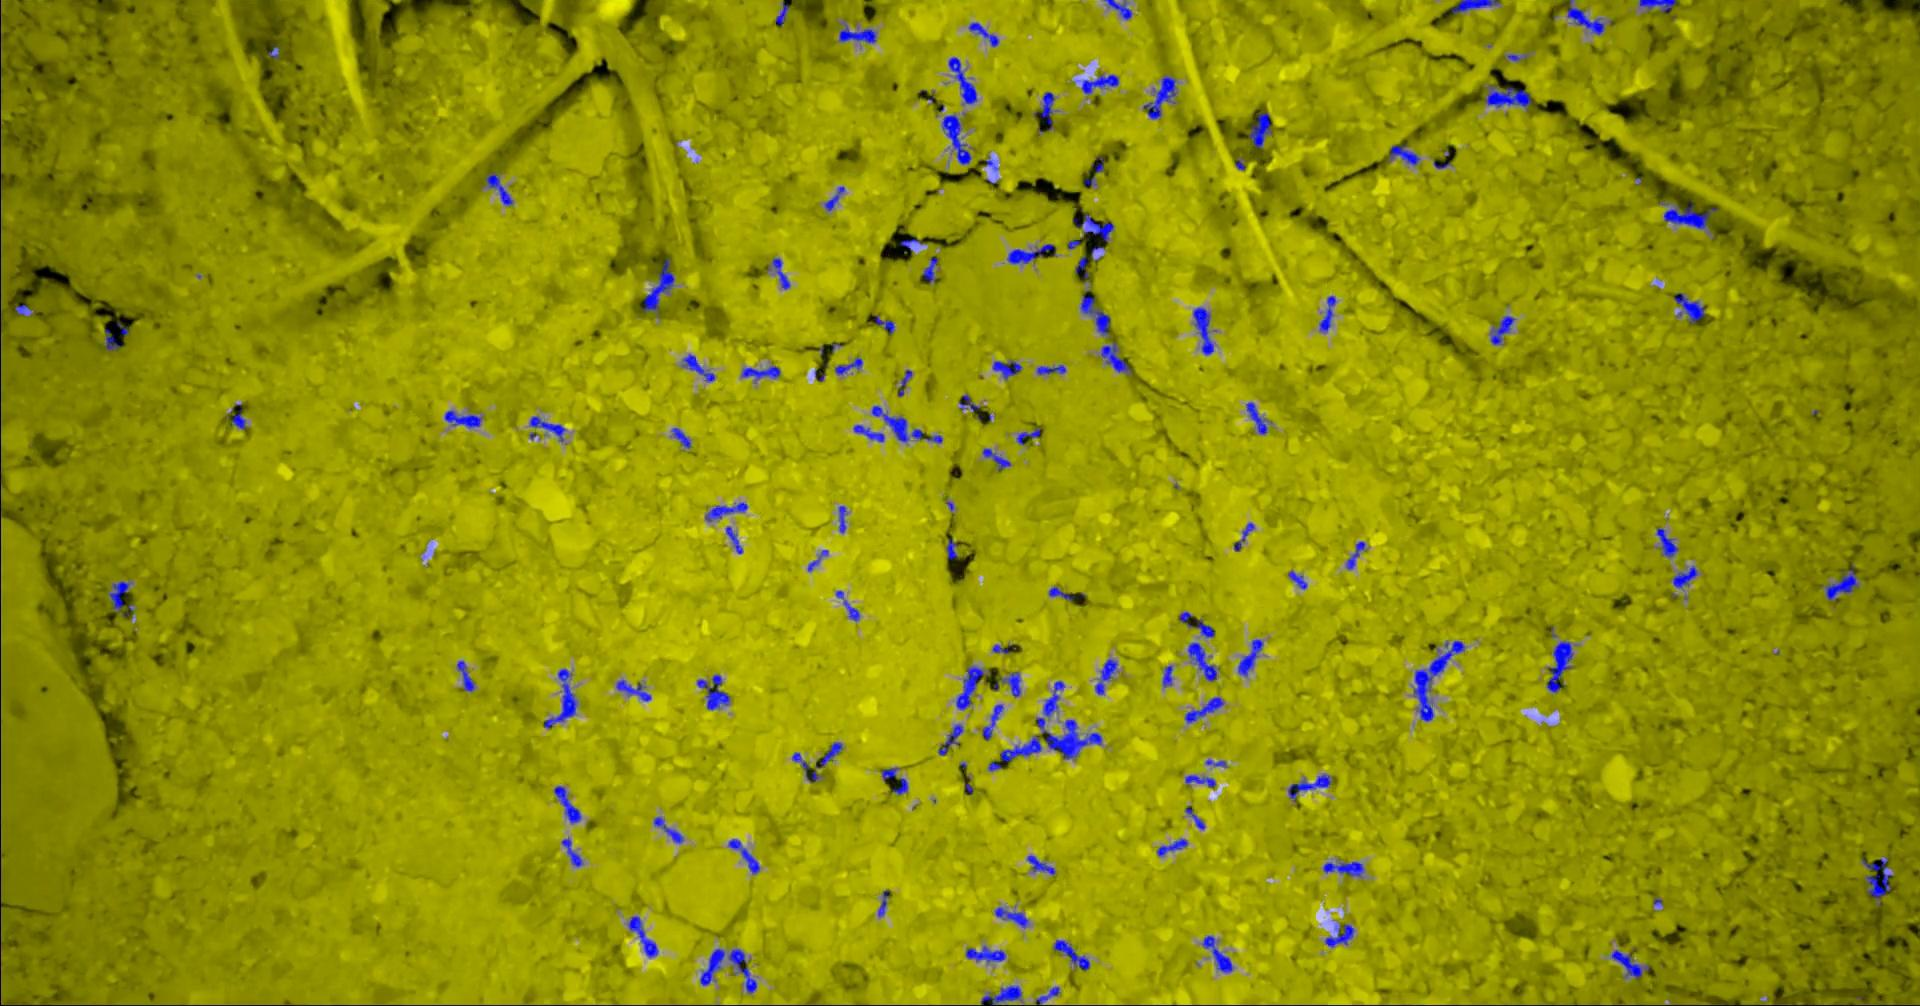ant: (1413, 640, 1464, 721), (871, 405, 942, 443), (543, 668, 577, 728), (987, 735, 1041, 770), (641, 257, 674, 311), (941, 114, 970, 164), (1545, 640, 1572, 692), (1143, 75, 1175, 118), (1663, 202, 1717, 227), (949, 56, 977, 103), (1079, 290, 1109, 334), (728, 948, 756, 992), (1567, 0, 1603, 34), (955, 666, 983, 709), (1484, 85, 1531, 111), (1862, 857, 1891, 898), (627, 916, 657, 956), (1201, 935, 1233, 972), (1053, 939, 1090, 970), (696, 674, 729, 709), (1825, 565, 1857, 601), (1187, 641, 1217, 680), (1611, 949, 1650, 978), (1073, 213, 1112, 241), (728, 838, 759, 873), (1288, 774, 1330, 799), (1100, 340, 1131, 373), (1006, 243, 1057, 263), (552, 785, 580, 822), (1183, 697, 1223, 723), (1672, 292, 1704, 323), (1192, 307, 1213, 354), (1237, 639, 1262, 676), (698, 948, 724, 984), (1178, 611, 1214, 636), (1247, 112, 1271, 149), (485, 171, 512, 205), (530, 417, 565, 441), (653, 815, 683, 843), (682, 354, 714, 381), (980, 984, 1021, 1005), (1032, 91, 1054, 130), (703, 502, 747, 521), (1095, 658, 1117, 694), (791, 752, 818, 781), (615, 680, 650, 701), (982, 704, 1003, 739), (1244, 401, 1267, 434), (968, 22, 998, 46), (938, 724, 963, 754), (1490, 315, 1514, 344), (1081, 74, 1117, 93), (1449, 0, 1498, 14), (815, 742, 842, 767), (994, 907, 1027, 927), (1324, 923, 1354, 946), (1388, 144, 1418, 165), (1656, 527, 1677, 558), (108, 580, 130, 611), (965, 945, 1004, 962), (838, 25, 876, 42), (1322, 861, 1363, 876), (444, 410, 481, 427), (982, 448, 1010, 470), (1233, 522, 1253, 551), (561, 837, 582, 866), (771, 257, 789, 290), (1319, 295, 1335, 332), (992, 359, 1021, 379), (1026, 855, 1055, 874), (456, 661, 474, 691), (1103, 0, 1131, 19), (1346, 541, 1365, 569), (852, 424, 884, 441), (1156, 838, 1187, 855), (225, 404, 245, 429), (999, 671, 1020, 696), (834, 356, 862, 373), (824, 185, 844, 210), (1672, 567, 1697, 587), (1185, 805, 1205, 829), (742, 366, 778, 379), (725, 525, 742, 553), (1035, 986, 1059, 1005), (808, 549, 828, 570), (1639, 0, 1675, 11), (922, 257, 937, 283), (957, 394, 980, 412), (1016, 428, 1040, 445), (670, 427, 690, 447), (1185, 775, 1215, 788), (1076, 255, 1090, 282), (897, 370, 910, 396), (1048, 586, 1074, 600), (874, 315, 894, 333), (775, 0, 789, 25), (104, 328, 119, 351), (1288, 572, 1307, 589), (900, 238, 924, 251), (843, 600, 858, 620), (1036, 365, 1065, 373), (877, 889, 888, 915), (891, 777, 907, 794), (946, 537, 957, 559), (881, 767, 898, 780), (1162, 666, 1172, 686), (992, 644, 1015, 653), (1091, 156, 1103, 171), (14, 304, 30, 315), (838, 506, 844, 532)
